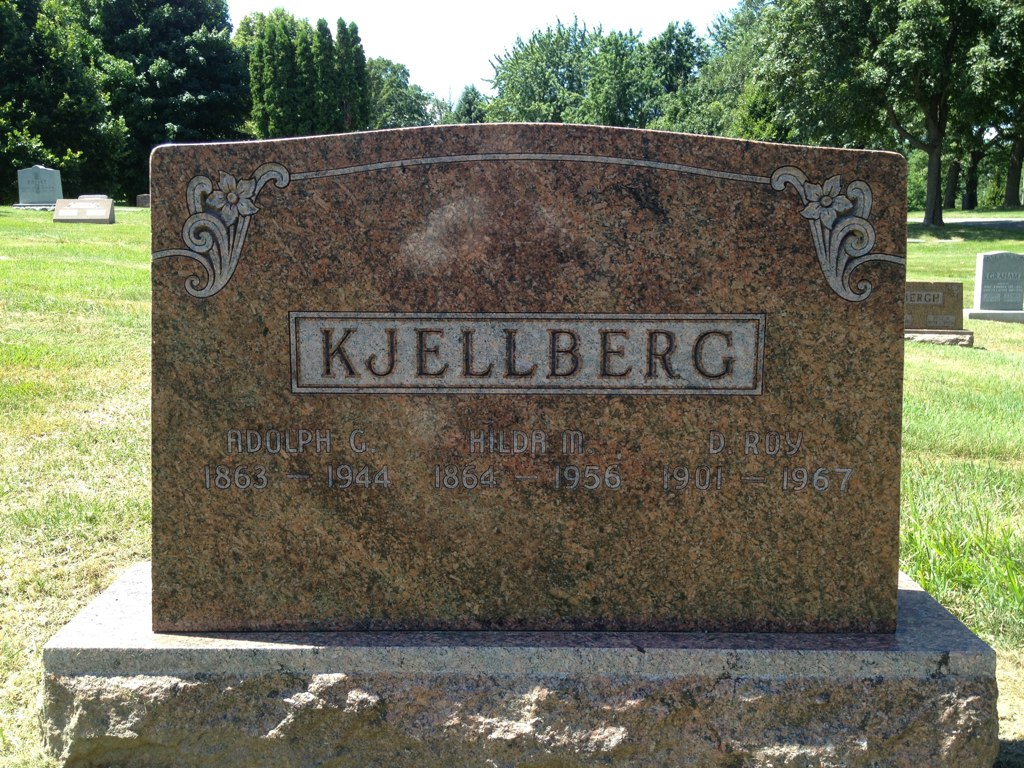upright: (37, 122, 999, 768)
